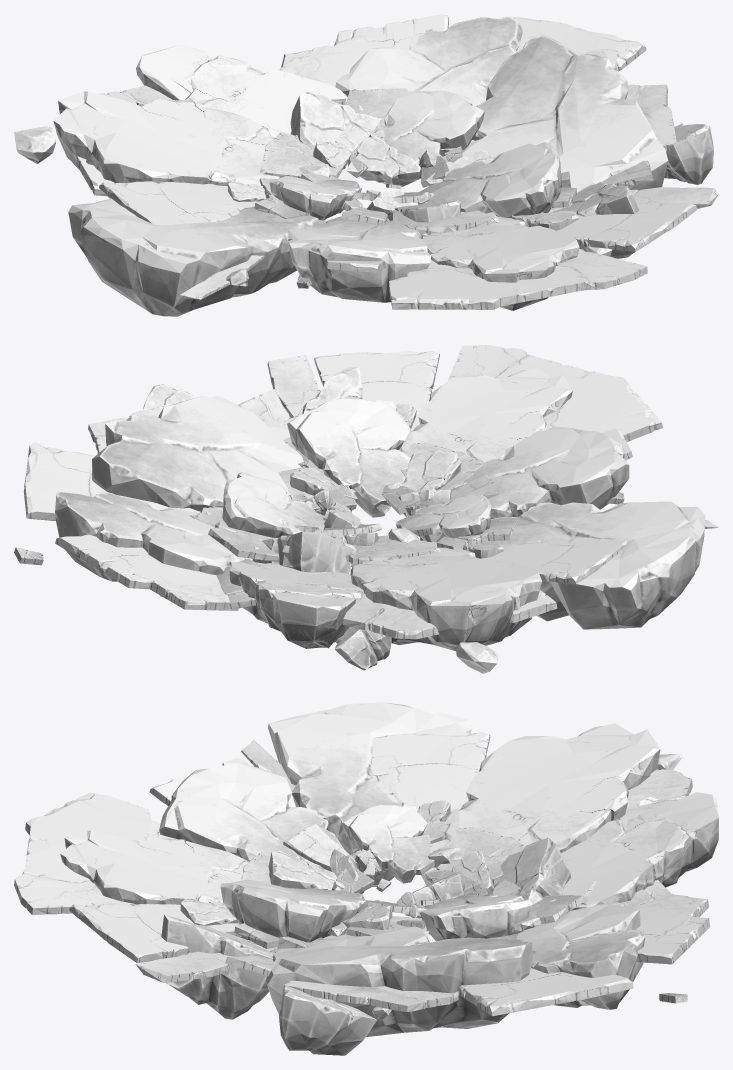
Rendered from GroundBreak.fbx.
3 views of the same model, one above another, from view 1: azimuth 30°, elevation 25°; view 2: azimuth 150°, elevation 25°; view 3: azimuth 270°, elevation 25° (orthographic). The views are drawn at different scales.
Visible parts, largest first — view 1: SM_EFF_GroundBreak_B.mo, SM_EFF_GroundBreak_A.mo; view 2: SM_EFF_GroundBreak_B.mo, SM_EFF_GroundBreak_A.mo; view 3: SM_EFF_GroundBreak_B.mo, SM_EFF_GroundBreak_A.mo.
Part boxes in pixels (box(x1,y1,x2,y2)): SM_EFF_GroundBreak_B.mo: box(14, 15, 713, 316); SM_EFF_GroundBreak_A.mo: box(76, 14, 718, 309); SM_EFF_GroundBreak_B.mo: box(55, 367, 705, 673); SM_EFF_GroundBreak_A.mo: box(14, 345, 718, 639); SM_EFF_GroundBreak_B.mo: box(60, 702, 718, 1055); SM_EFF_GroundBreak_A.mo: box(14, 732, 710, 1016).
Bounding box in the file's own units: 159 × 30.1 × 153.
